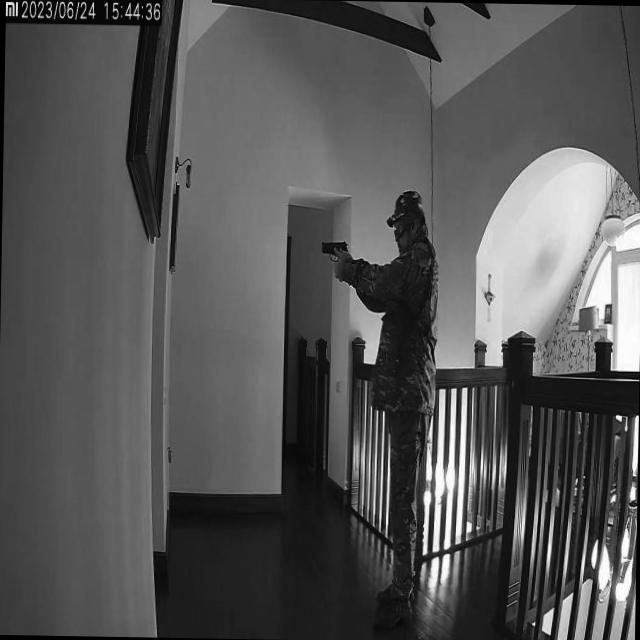gun: (319, 236, 351, 275)
person with a gun: (349, 188, 442, 635)
